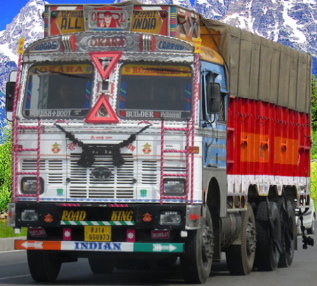truck: (6, 1, 310, 286)
